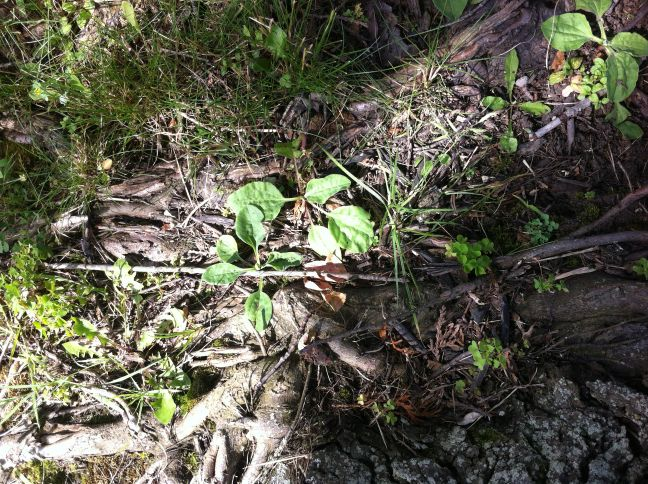weed1: (224, 176, 386, 255), (196, 209, 296, 329), (545, 3, 644, 101)
